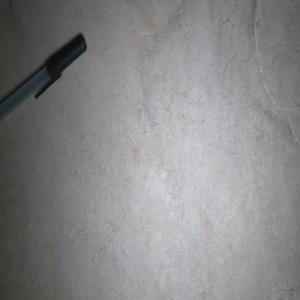Pen: (0, 34, 88, 124)
